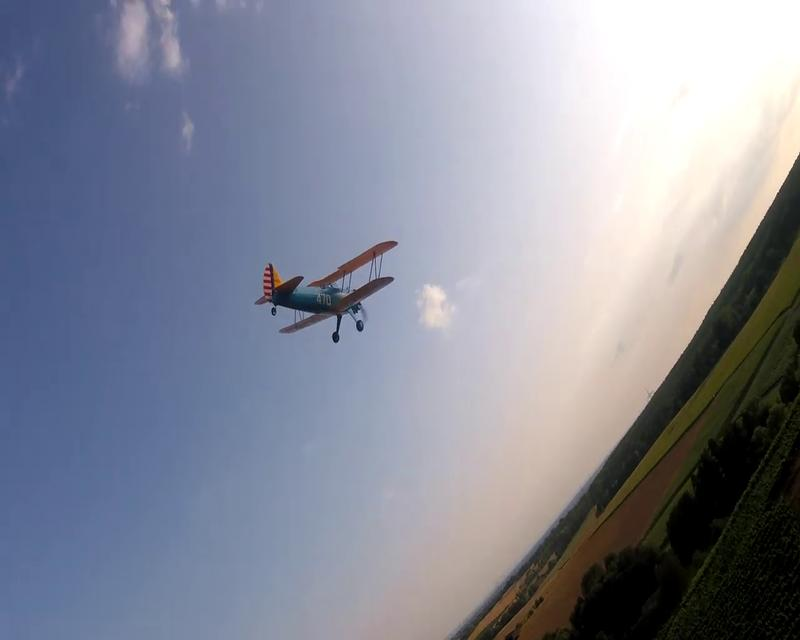UAV: (253, 238, 398, 344)
